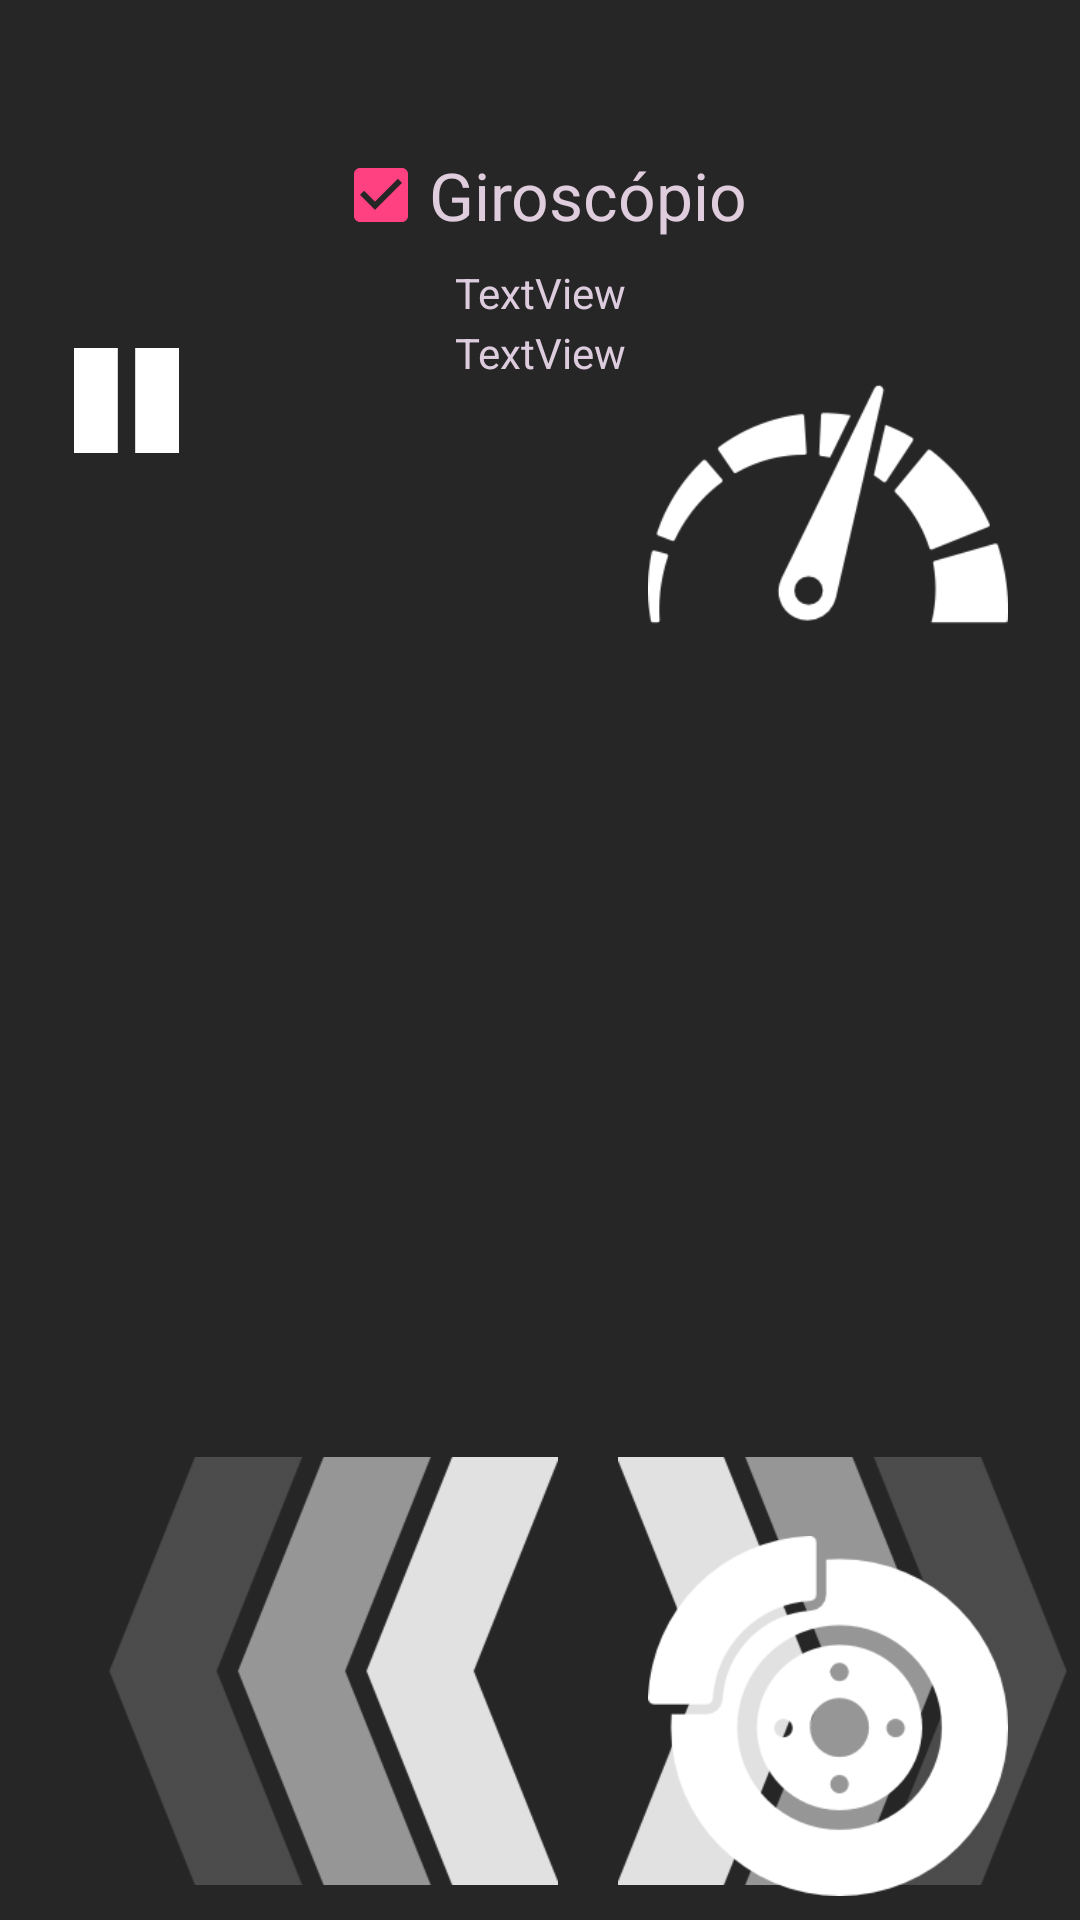

Where to tap for icons on this 1080x1920 app screen, as (x,y):
disc brake: (828,1716)
pause: (126,400)
speedometer: (828,504)
